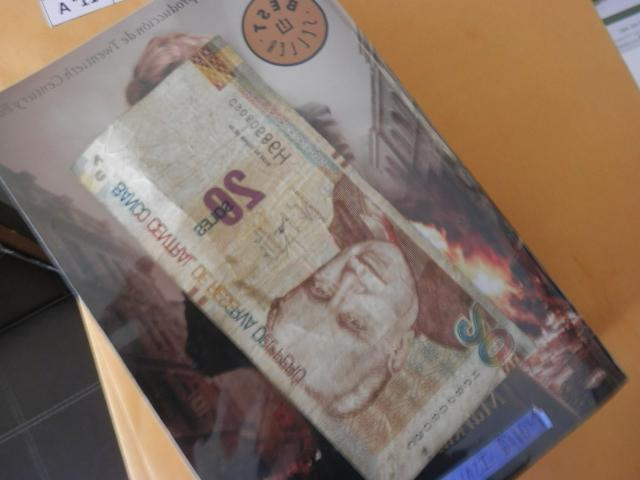B20: (73, 36, 536, 480)
